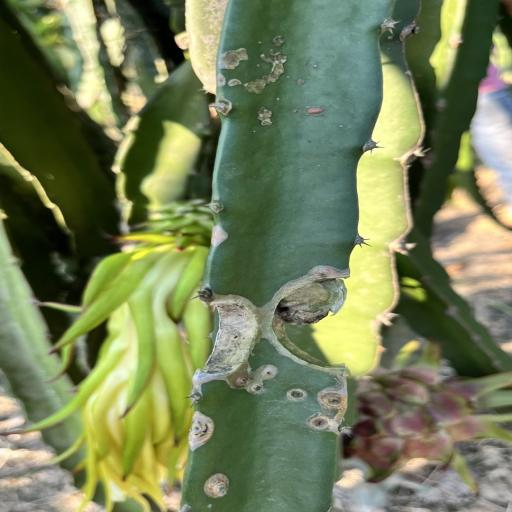stemcanker: (235, 102, 332, 132), (225, 364, 274, 396), (286, 71, 317, 91), (272, 95, 300, 115), (282, 74, 317, 89), (251, 38, 270, 59), (328, 121, 358, 134), (254, 364, 278, 380), (178, 502, 214, 512), (241, 124, 265, 137), (329, 123, 352, 134), (250, 38, 270, 48), (199, 500, 219, 510), (180, 500, 196, 512), (380, 44, 400, 53), (310, 63, 330, 72), (227, 78, 244, 88), (251, 60, 268, 70), (380, 33, 397, 42), (308, 62, 325, 70), (275, 95, 289, 103), (252, 62, 266, 69), (385, 36, 397, 42), (240, 71, 251, 77)
